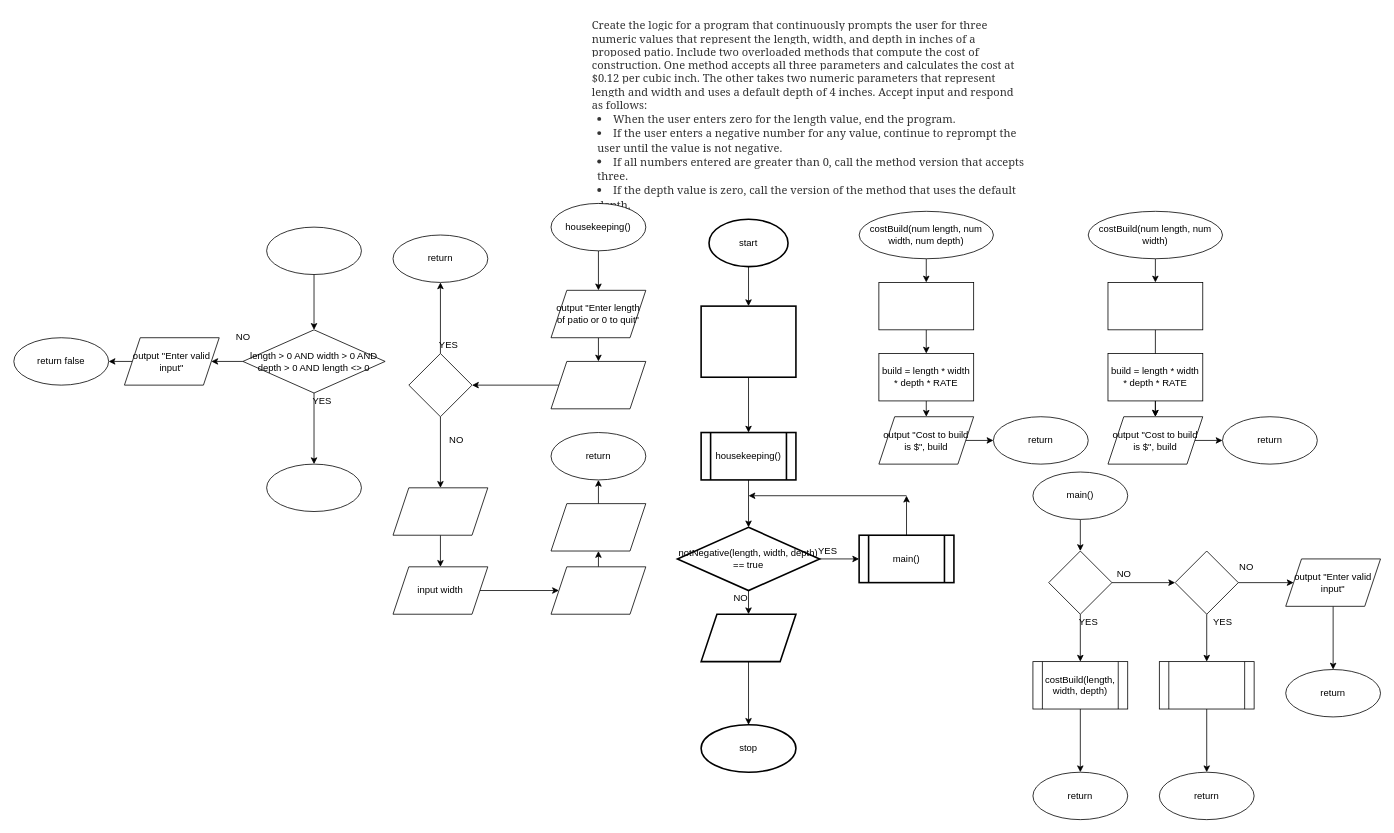
The diagram is 1394 pixels wide and 833 high, and some of its shapes have lost their labels. Here are the shapes that lost their labels. From the top down, the centre of each, then its label:
the point at 313,250: notNegative(num length, num width, num depth)
the point at 926,306: num RATE = 0.12 num build
the point at 1155,306: num depth = 4 num RATE = 0.12 num build
the point at 748,341: Declarations num length num width num depth
the point at 440,385: length == 0
the point at 598,385: input length
the point at 313,487: return true
the point at 440,511: output "Enter width"
the point at 598,527: input depth
the point at 598,590: output "Enter depth
the point at 1080,582: length > 0 AND width > 0 and depth > 0
the point at 1206,582: depth == 0
the point at 748,637: output "End of program"
the point at 1206,685: costBuild(length, width)
